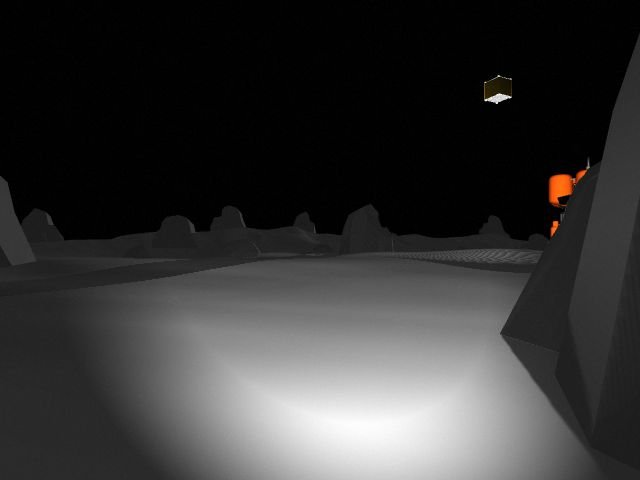cubesat: (481, 70, 517, 109)
